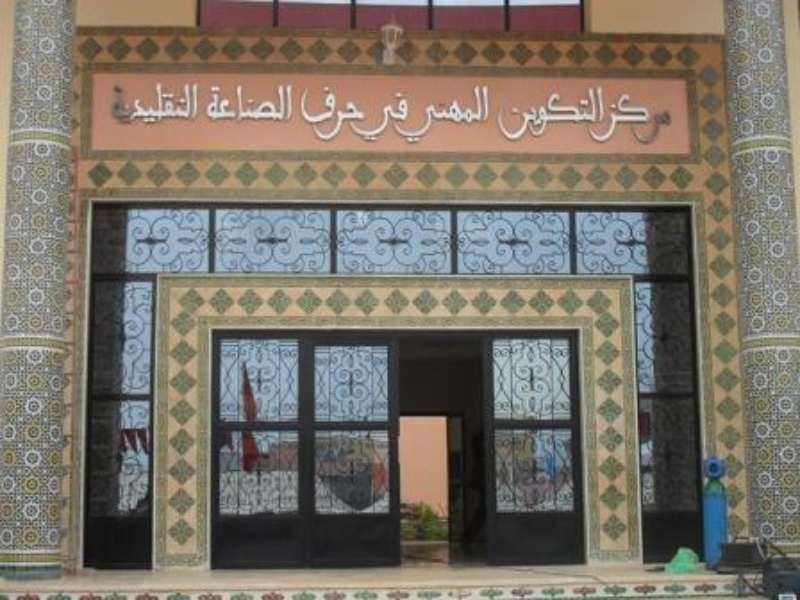text: (401, 84, 416, 145), (417, 84, 432, 145), (433, 84, 448, 145), (449, 84, 464, 145), (465, 84, 480, 145), (593, 86, 609, 142), (305, 84, 320, 142), (321, 84, 336, 142), (337, 84, 352, 142), (497, 86, 512, 142), (513, 86, 528, 142), (529, 86, 544, 142), (545, 86, 560, 142), (561, 86, 576, 142), (577, 86, 592, 142), (353, 90, 368, 145), (369, 90, 384, 145), (385, 90, 400, 145), (593, 93, 608, 145), (609, 93, 624, 145), (625, 93, 640, 145), (641, 93, 656, 145), (657, 93, 672, 145), (353, 84, 365, 142), (113, 81, 128, 126), (129, 81, 144, 126), (145, 81, 160, 126), (161, 81, 176, 126), (177, 81, 192, 126), (481, 84, 492, 145), (401, 90, 413, 145), (209, 84, 224, 124), (225, 84, 240, 124), (241, 84, 256, 124), (257, 84, 272, 124), (273, 84, 288, 124), (392, 84, 400, 145), (289, 84, 297, 124), (299, 84, 304, 142), (193, 81, 199, 126), (349, 90, 352, 145), (109, 81, 112, 126), (590, 93, 592, 145), (495, 86, 496, 142)
